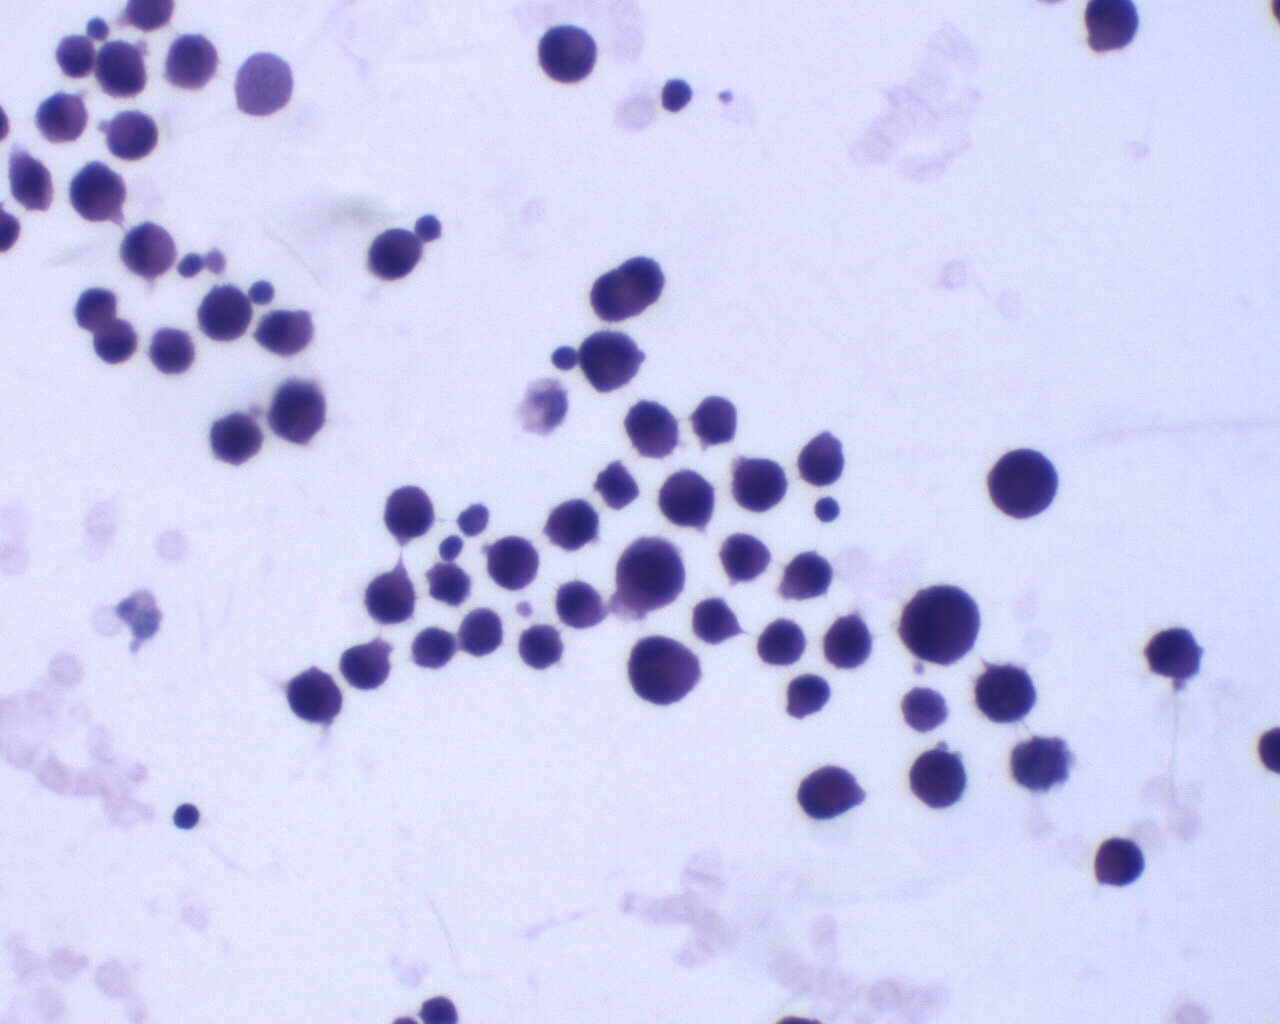ab: (893, 588, 987, 671), (610, 538, 689, 612), (983, 449, 1061, 522), (630, 632, 704, 707), (795, 758, 872, 827), (530, 20, 604, 88), (968, 662, 1044, 727), (1139, 618, 1210, 684), (266, 376, 329, 451), (577, 326, 646, 394), (65, 156, 126, 226), (157, 29, 222, 93), (907, 746, 969, 813), (729, 452, 787, 520), (209, 405, 267, 471), (363, 222, 424, 283), (656, 467, 716, 531), (285, 665, 345, 728), (543, 492, 601, 558), (360, 565, 421, 627), (484, 533, 543, 596), (102, 108, 165, 164), (96, 38, 150, 100), (377, 483, 435, 540), (196, 286, 250, 345), (821, 615, 875, 671), (782, 548, 836, 601), (753, 616, 808, 668), (515, 619, 566, 673), (459, 604, 504, 656)
lymph: (167, 797, 205, 839), (808, 491, 846, 526)
